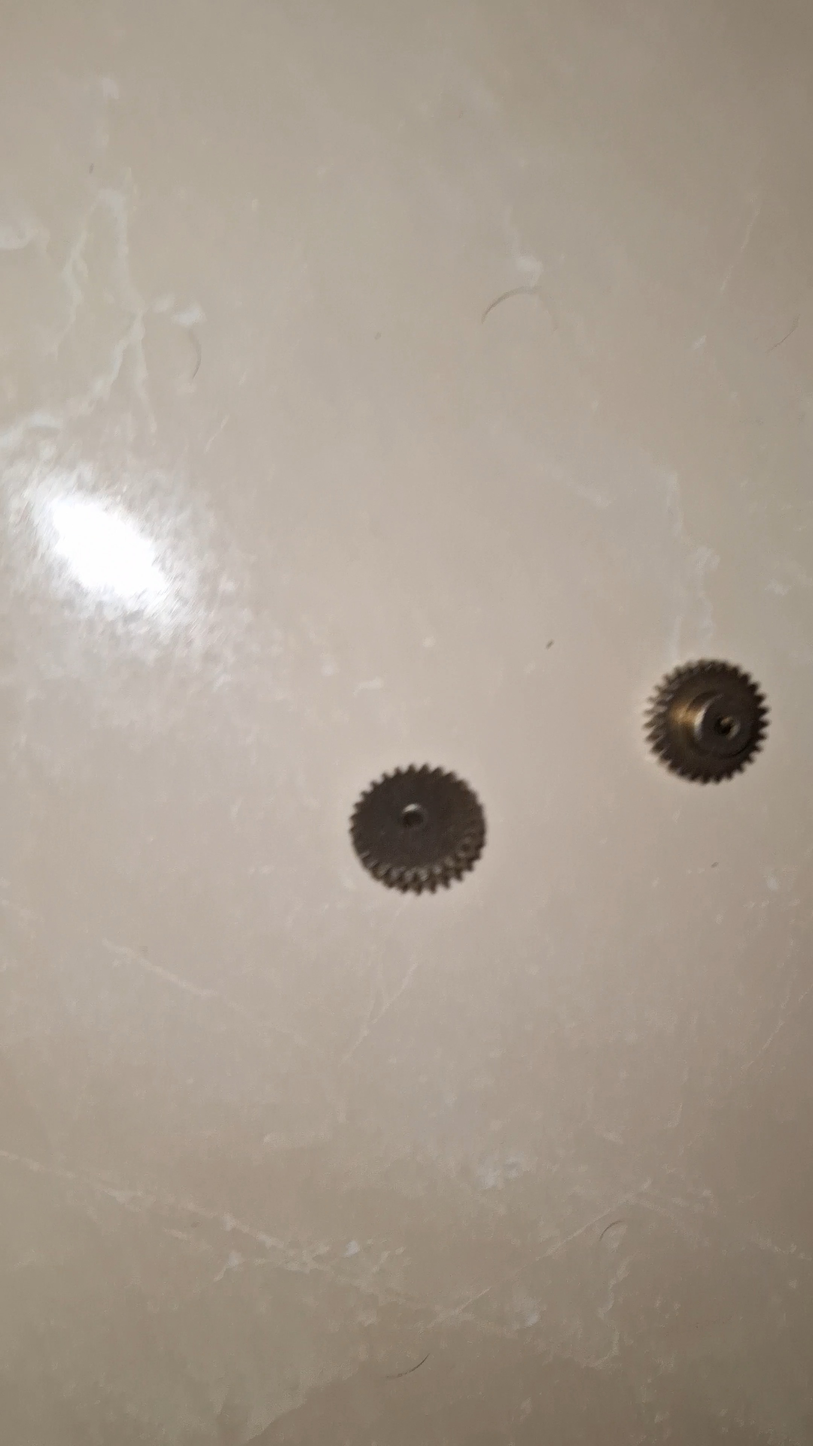spur gear: (350, 766, 486, 893), (646, 660, 767, 782)
